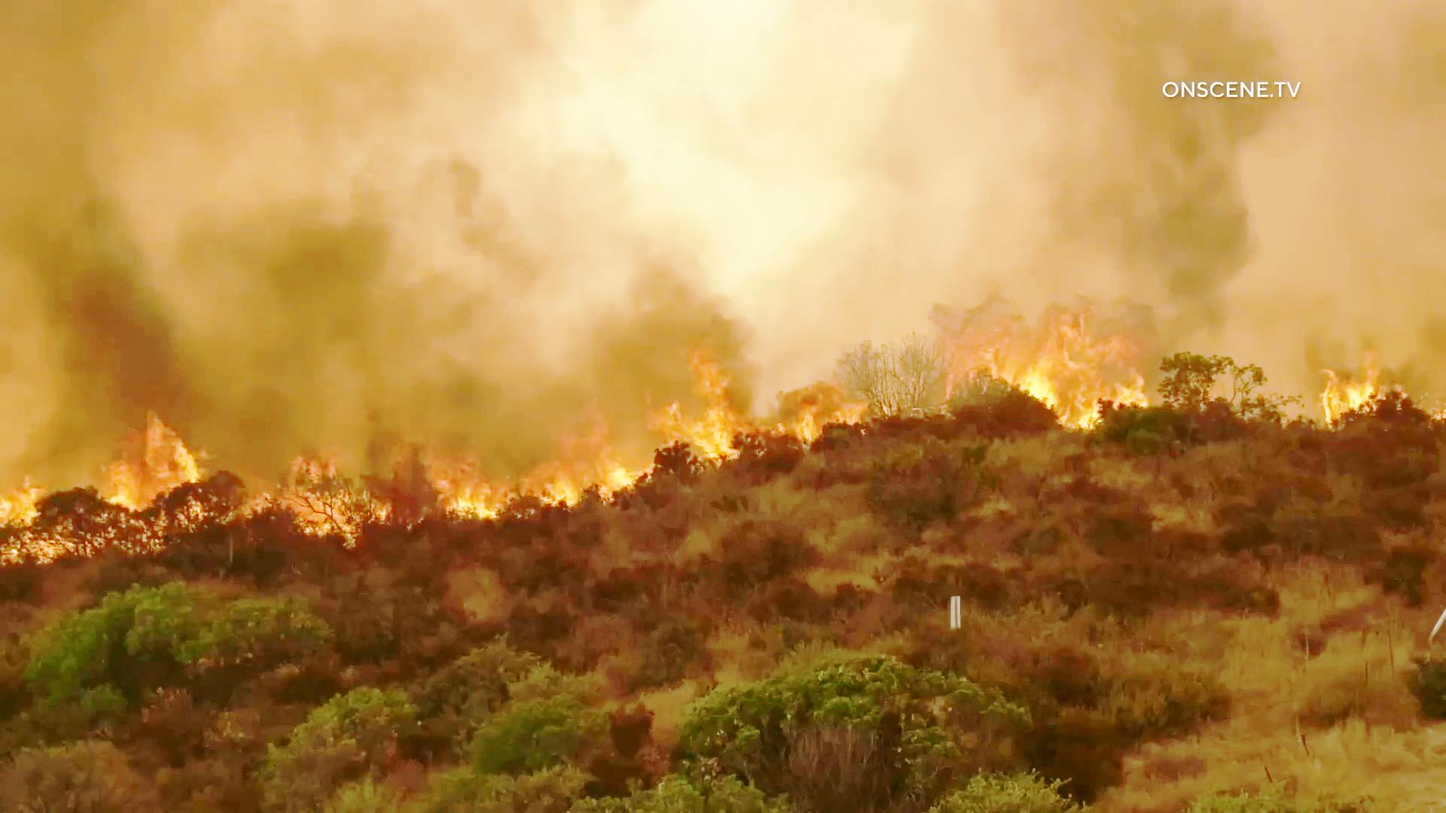fire: (932, 266, 1144, 431), (390, 437, 662, 526), (650, 352, 861, 457), (64, 431, 216, 533), (1305, 349, 1424, 444)
smoke: (18, 185, 198, 428), (1145, 149, 1249, 326)
